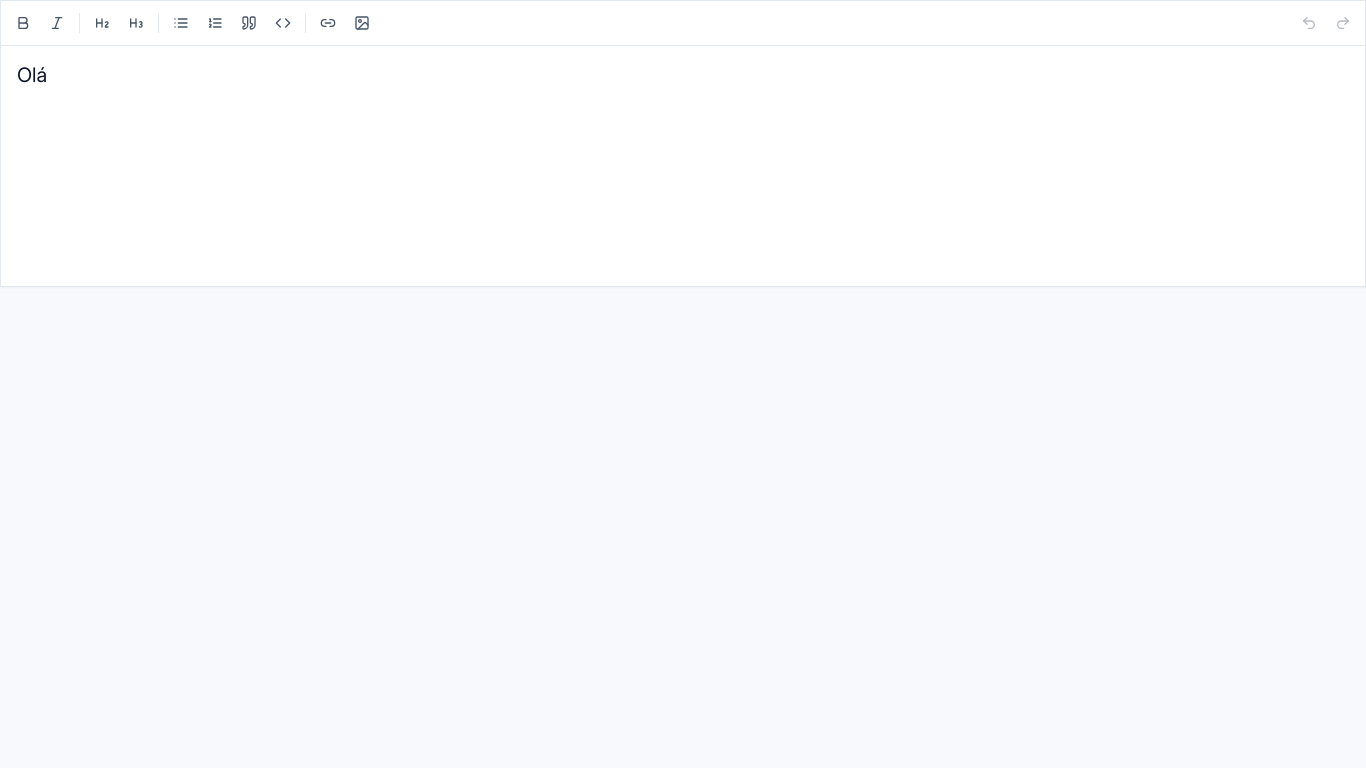
Test: RichTextEditor toolbar › opens the media library to insert an image
The image size is (1366, 768).
Click the field named "conteúdo".
click(32, 75)  # box [17, 63, 47, 87]
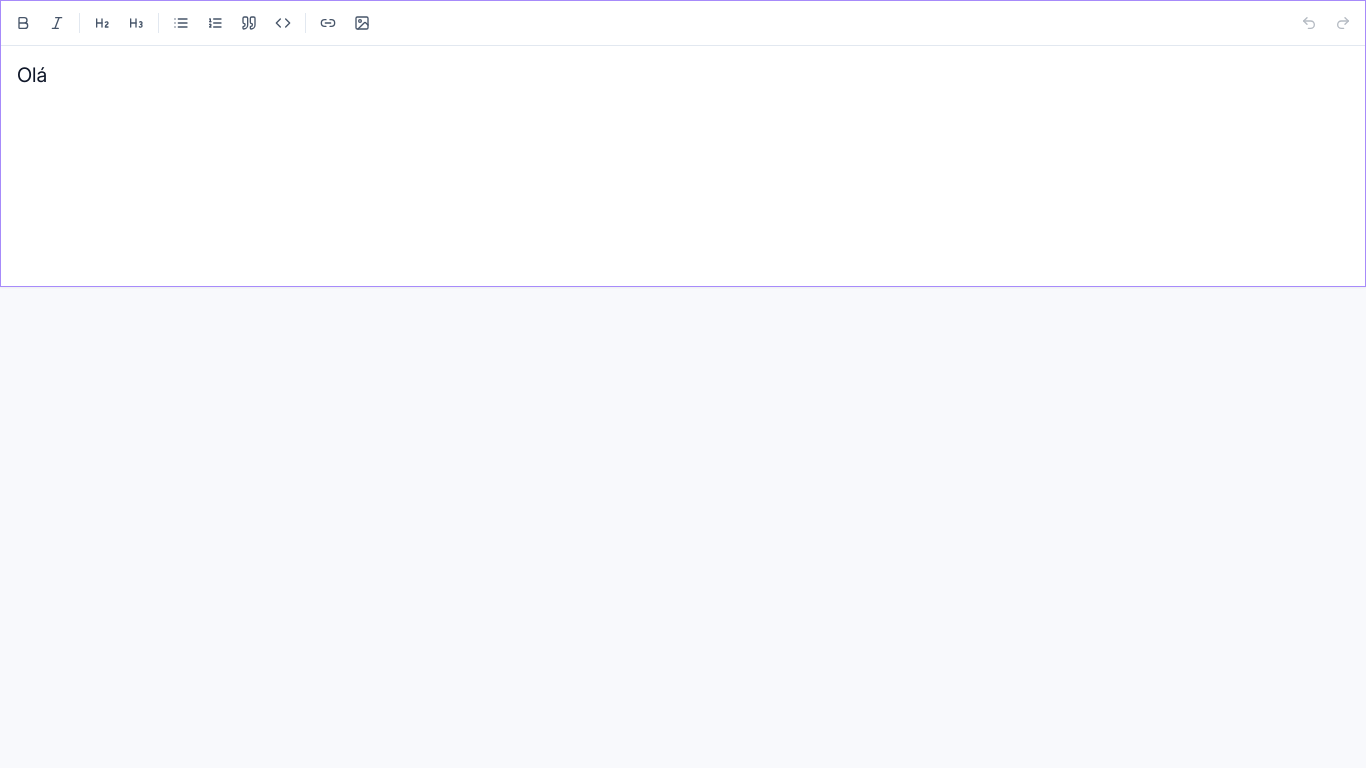
Type keys "{Control>}a{/Control}"
Click the button named "inserir imagem".
click(362, 23)  # box [346, 7, 378, 39]
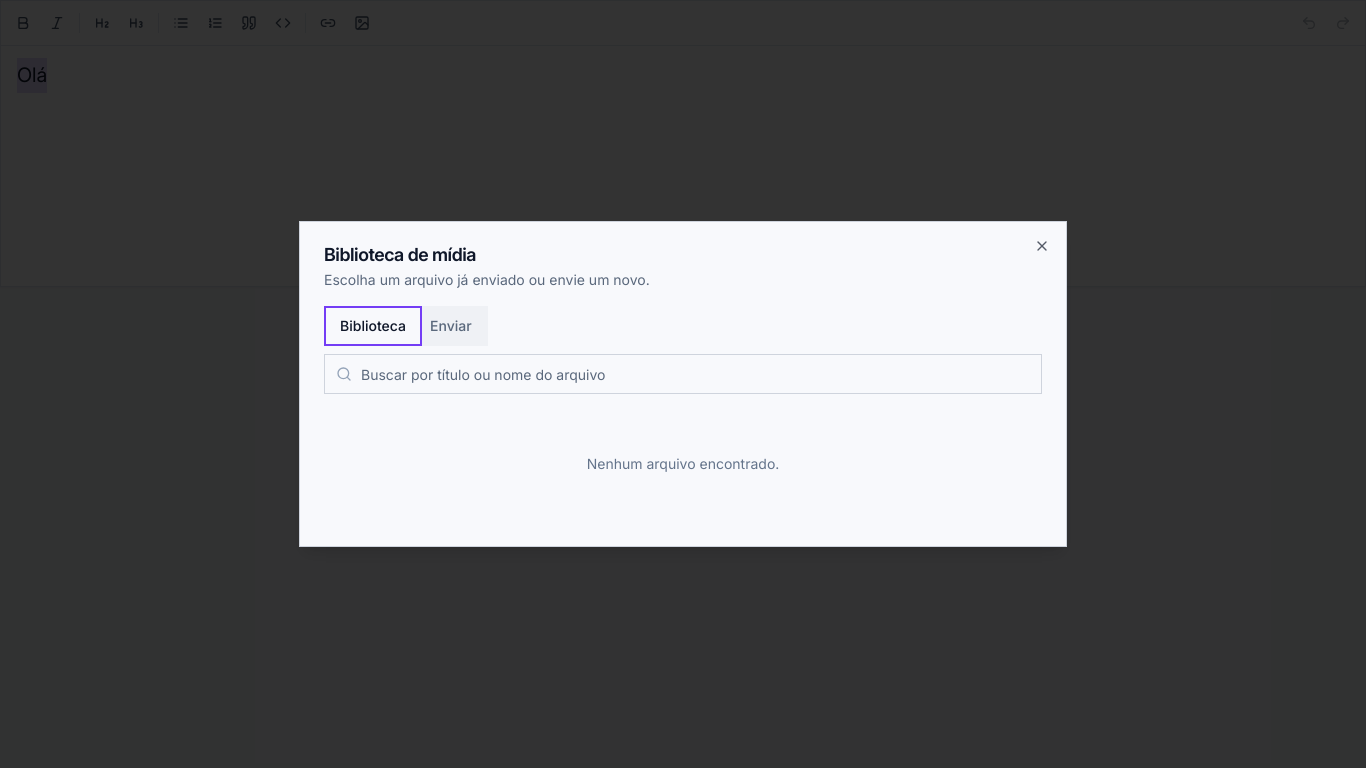
Expected: the dialog is shown, [299, 221, 1067, 547]
